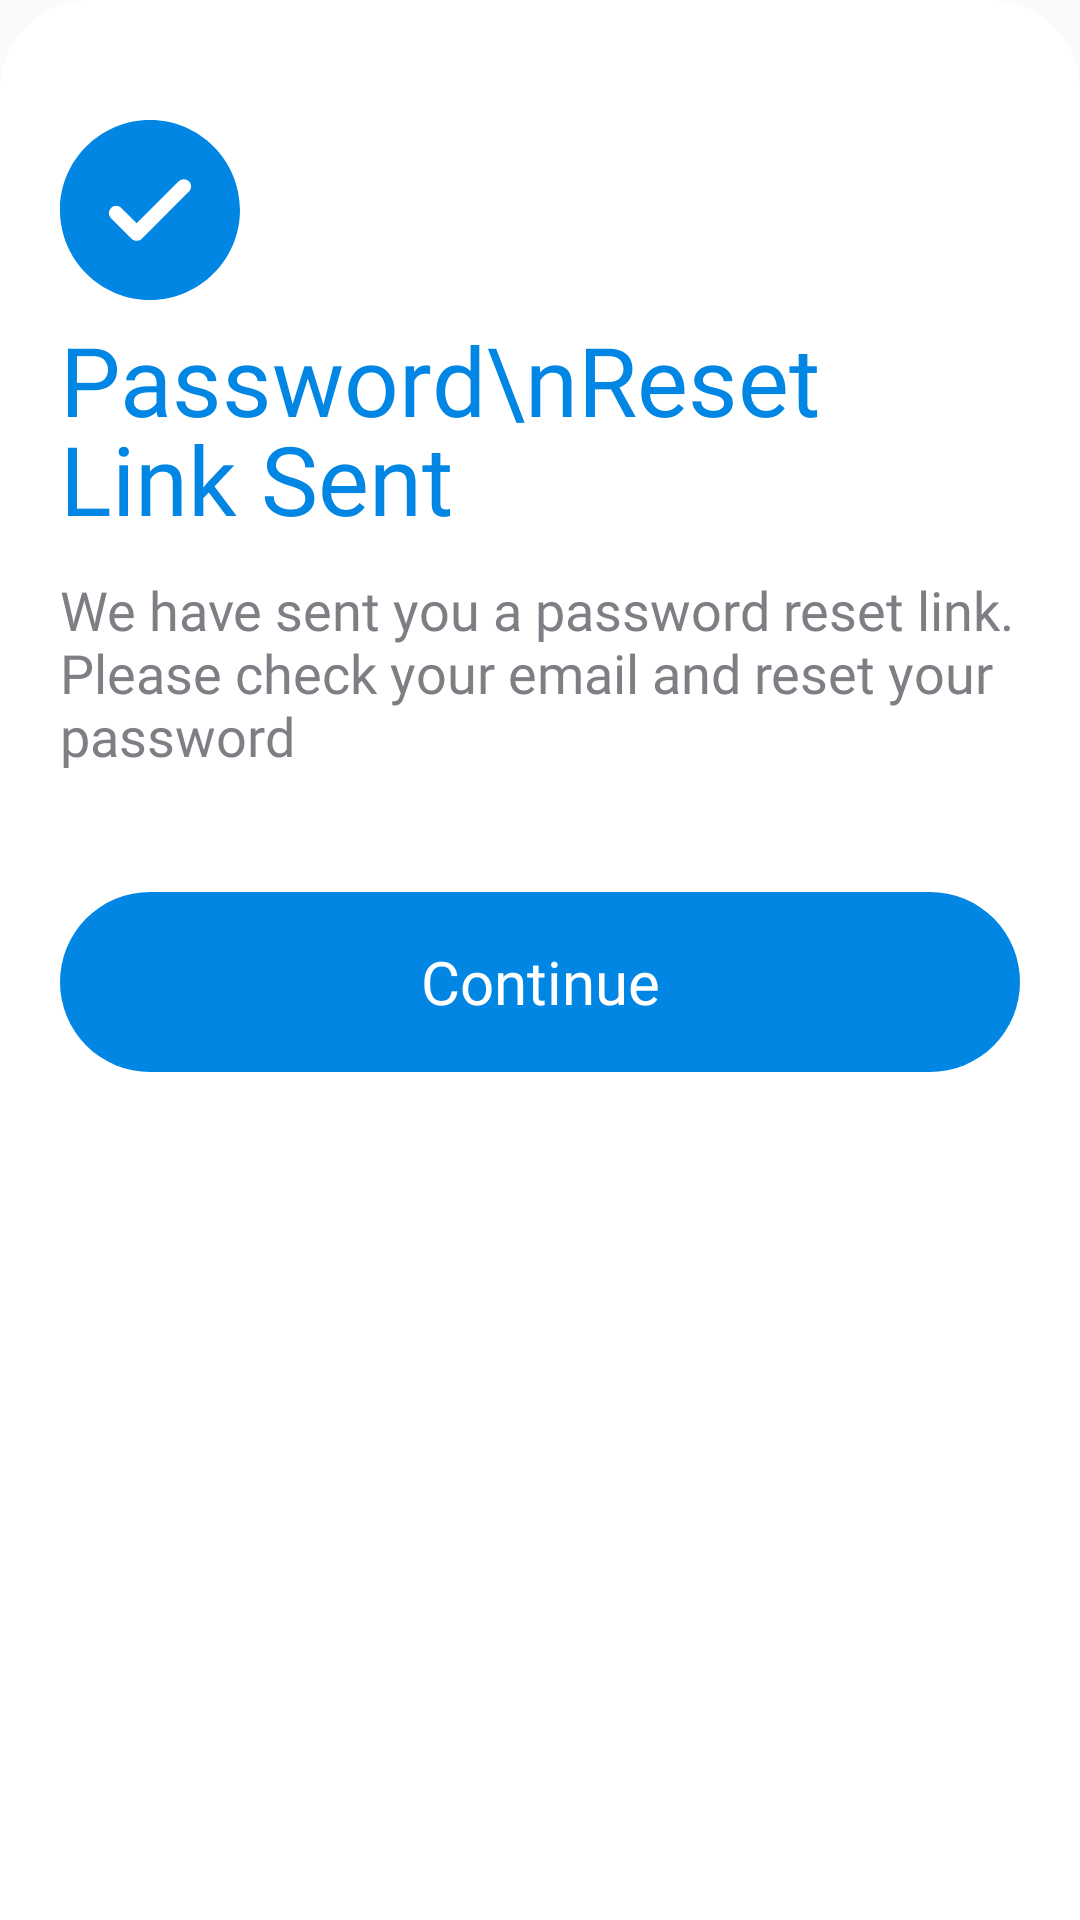

Screen size 1080 × 1920. Icon name, then its box in pixels as [x1,y1,x2,y2]:
check mark: [60,120,240,300]
